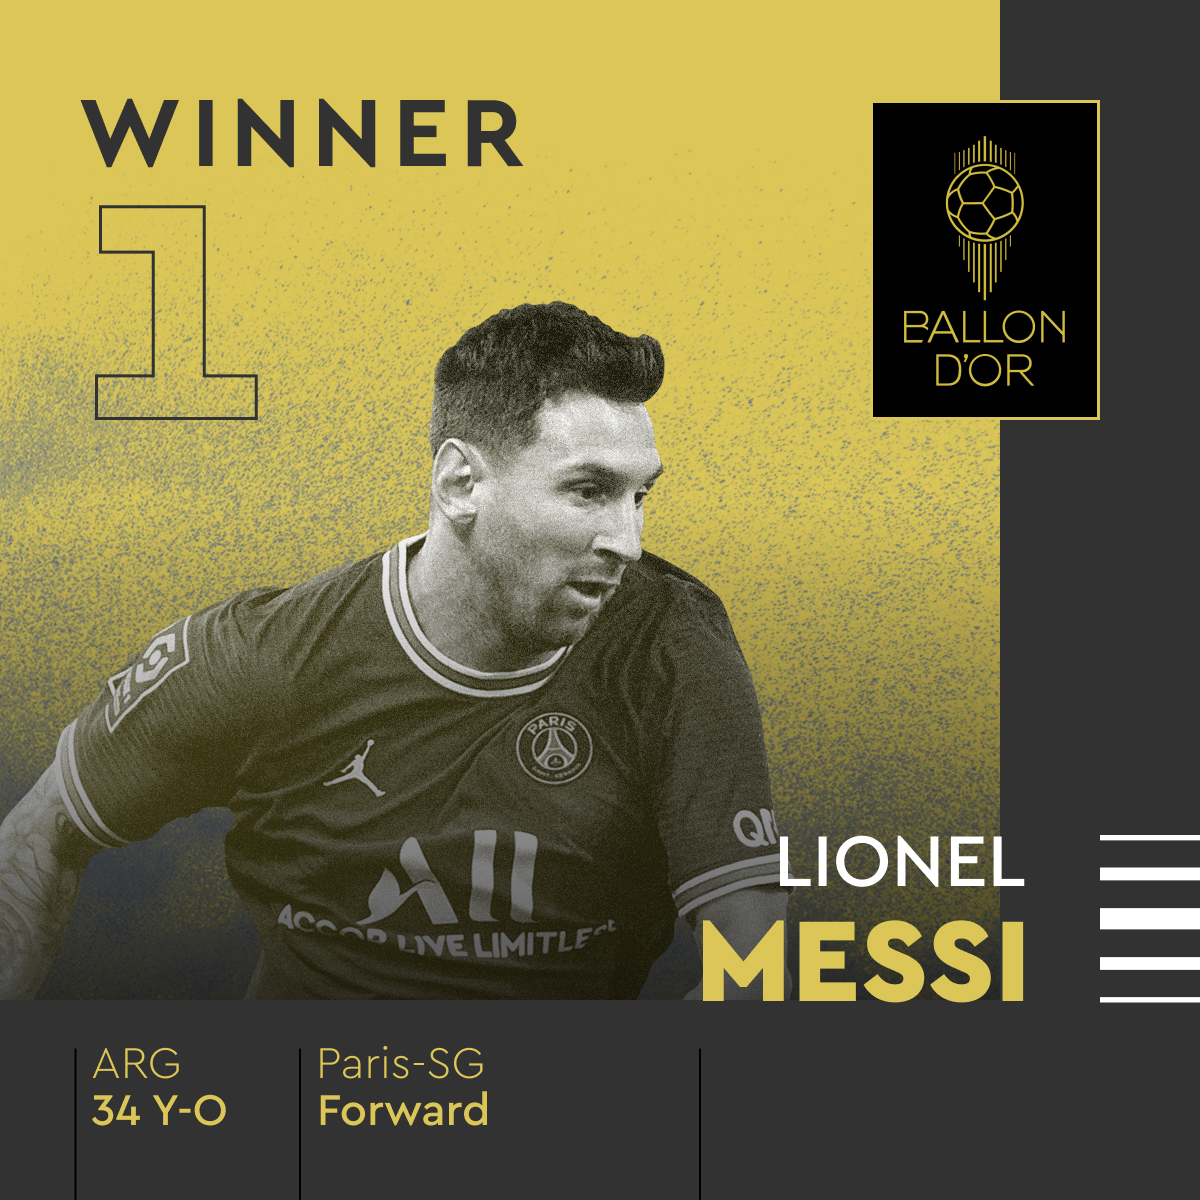NoMask: (504, 450, 657, 651)
